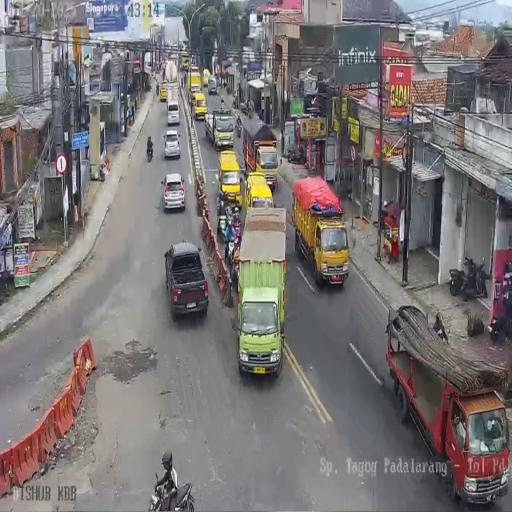3: (383, 304, 508, 500), (236, 205, 287, 373), (293, 174, 349, 288), (216, 148, 242, 211), (206, 108, 235, 150), (180, 50, 190, 70)
car: (164, 240, 208, 318), (254, 140, 281, 192), (163, 171, 186, 210), (163, 129, 181, 159), (166, 88, 180, 124), (192, 92, 208, 120), (208, 75, 218, 94), (160, 81, 168, 102), (203, 68, 210, 87), (217, 77, 221, 89)
truck: (148, 470, 196, 510), (448, 256, 489, 302), (488, 310, 506, 341), (225, 231, 237, 269), (286, 145, 304, 165), (232, 206, 242, 242), (146, 143, 154, 162), (236, 118, 242, 138), (240, 101, 248, 115), (220, 96, 225, 110)
